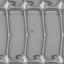dust: (29, 29, 34, 32)
